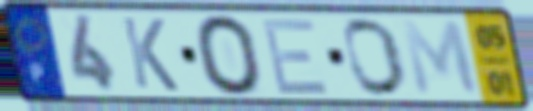4: (68, 12, 119, 95)
E: (258, 16, 333, 97)
K: (118, 14, 182, 94)
M: (398, 18, 483, 99)
O: (191, 12, 266, 99), (341, 15, 410, 99)
